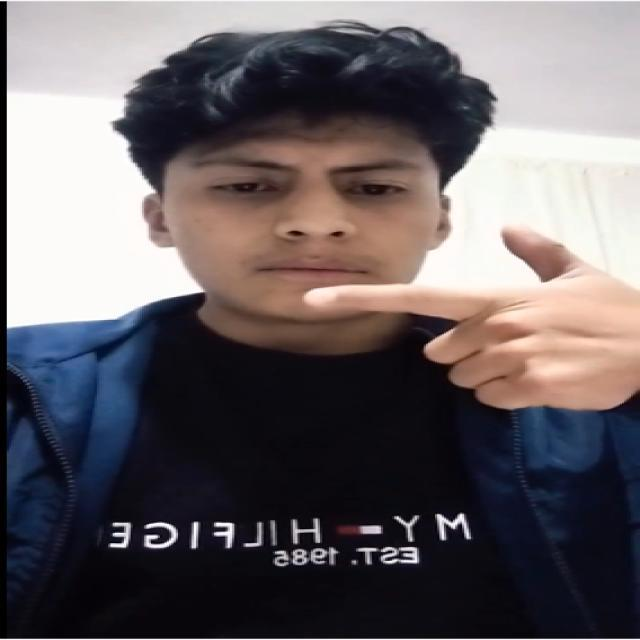G: (286, 210, 638, 424)
